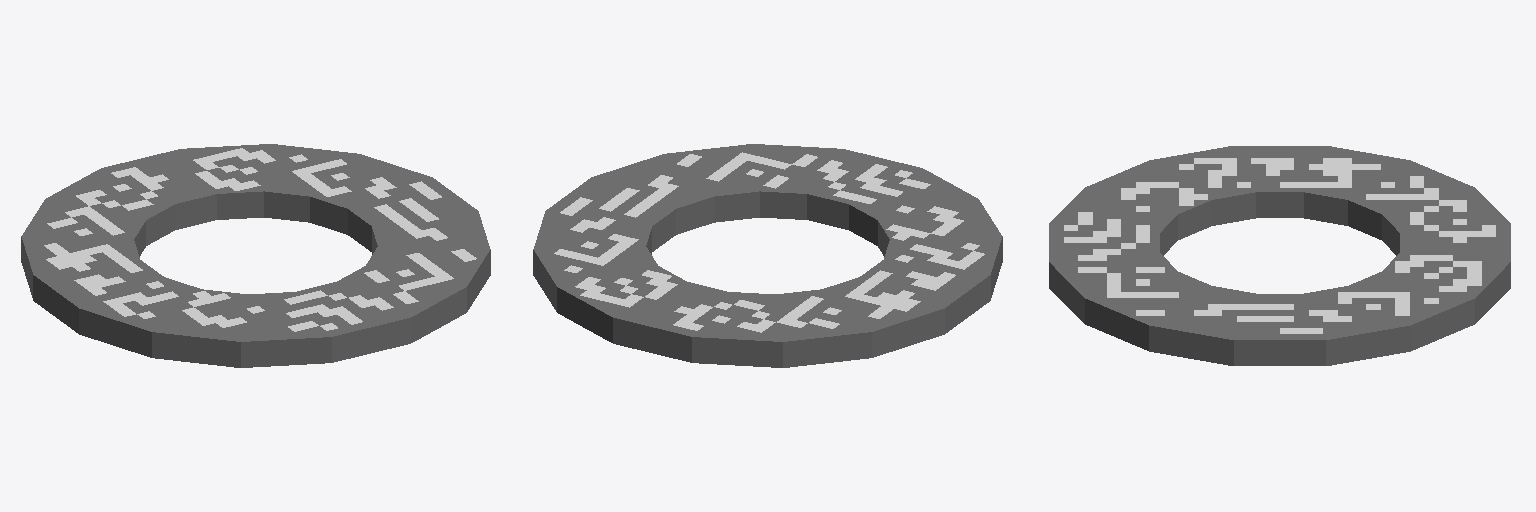
3 renders of one model, left to right at view 1: azimuth 30°, elevation 25°; view 2: azimuth 150°, elevation 25°; view 3: azimuth 270°, elevation 25°, orthographic.
Parts seen in each view (by area): view 1: tube; view 2: tube; view 3: tube.
Part boxes in pixels (x1,y1,x2,y2): tube: (21,144,490,367); tube: (533,144,1002,367); tube: (1049,146,1510,365).
Size of the model in its own units: 1 by 0.0625 by 1.
1 materials, 1 textured.